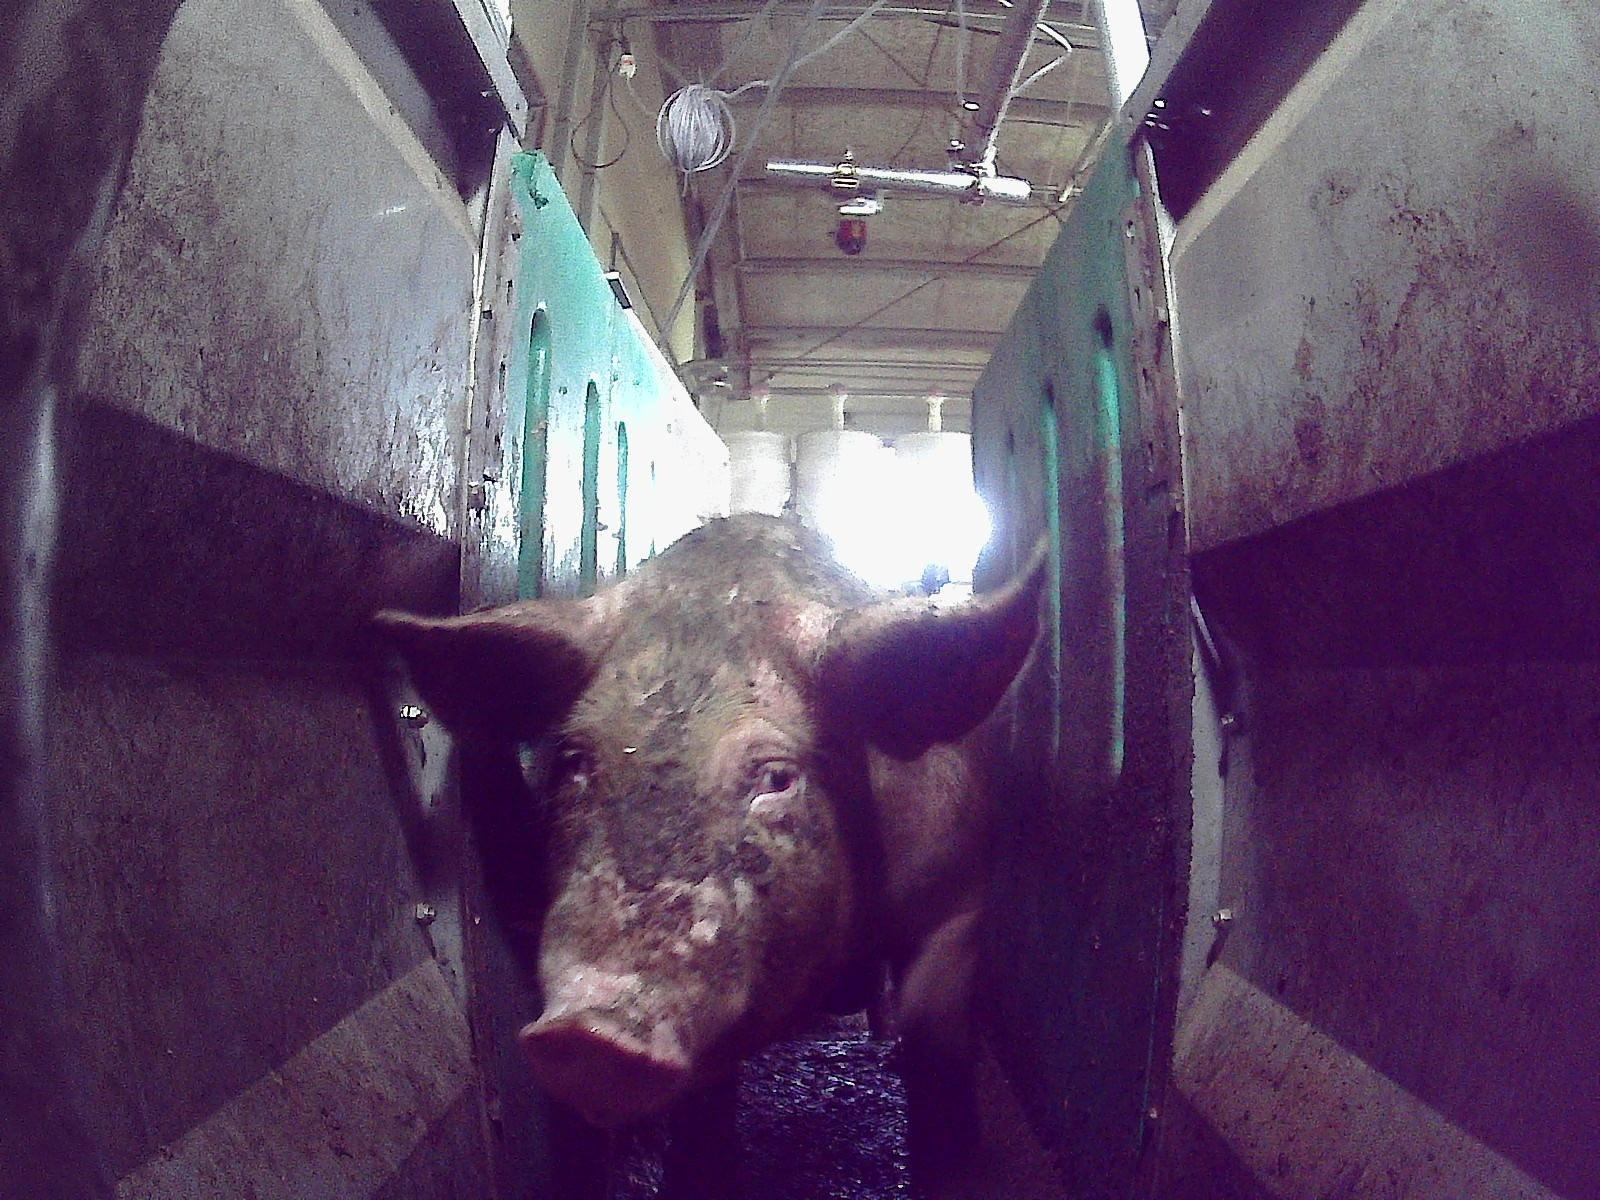Face: (516, 597, 846, 1129)
